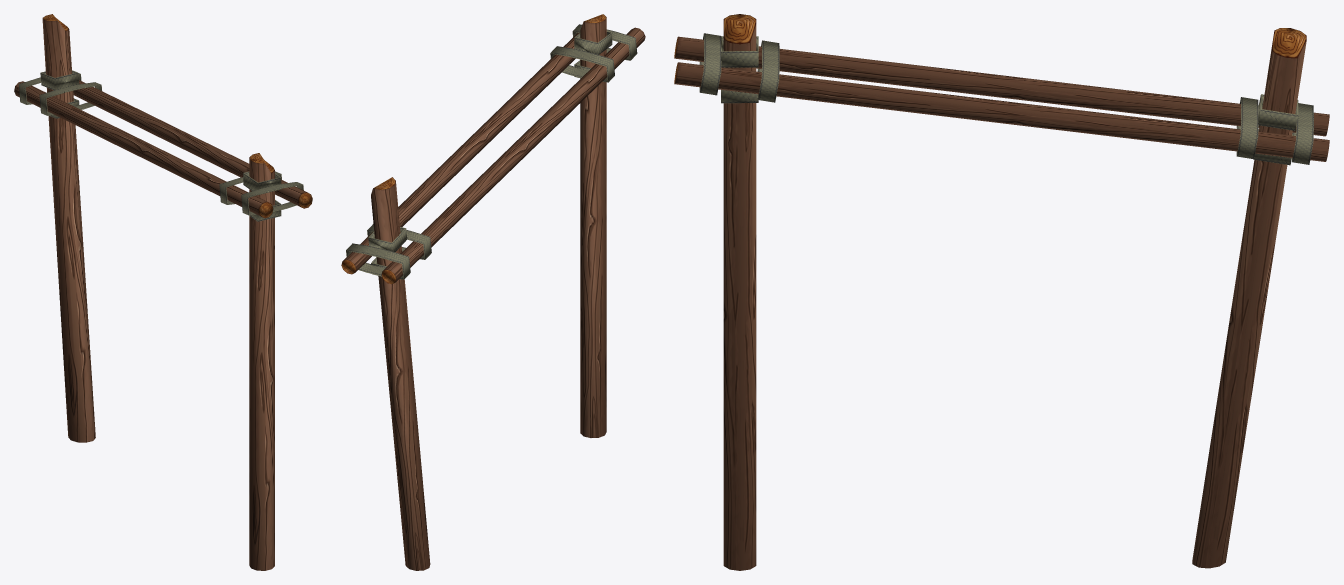
File: Fence_Gate.fbx
The picture shows the model from 3 angles, left to right: view 1: azimuth 30°, elevation 25°; view 2: azimuth 150°, elevation 25°; view 3: azimuth 270°, elevation 25°; orthographic projection. The views are drawn at different scales.
Parts seen in each view (by area): view 1: Fence_Gate; view 2: Fence_Gate; view 3: Fence_Gate.
Part boxes in pixels (x1,y1,x2,y2): Fence_Gate: [14, 14, 312, 570]; Fence_Gate: [341, 14, 645, 570]; Fence_Gate: [674, 14, 1329, 570].
Bounding box in the file's own units: 0.9891 × 6.92 × 7.58.
